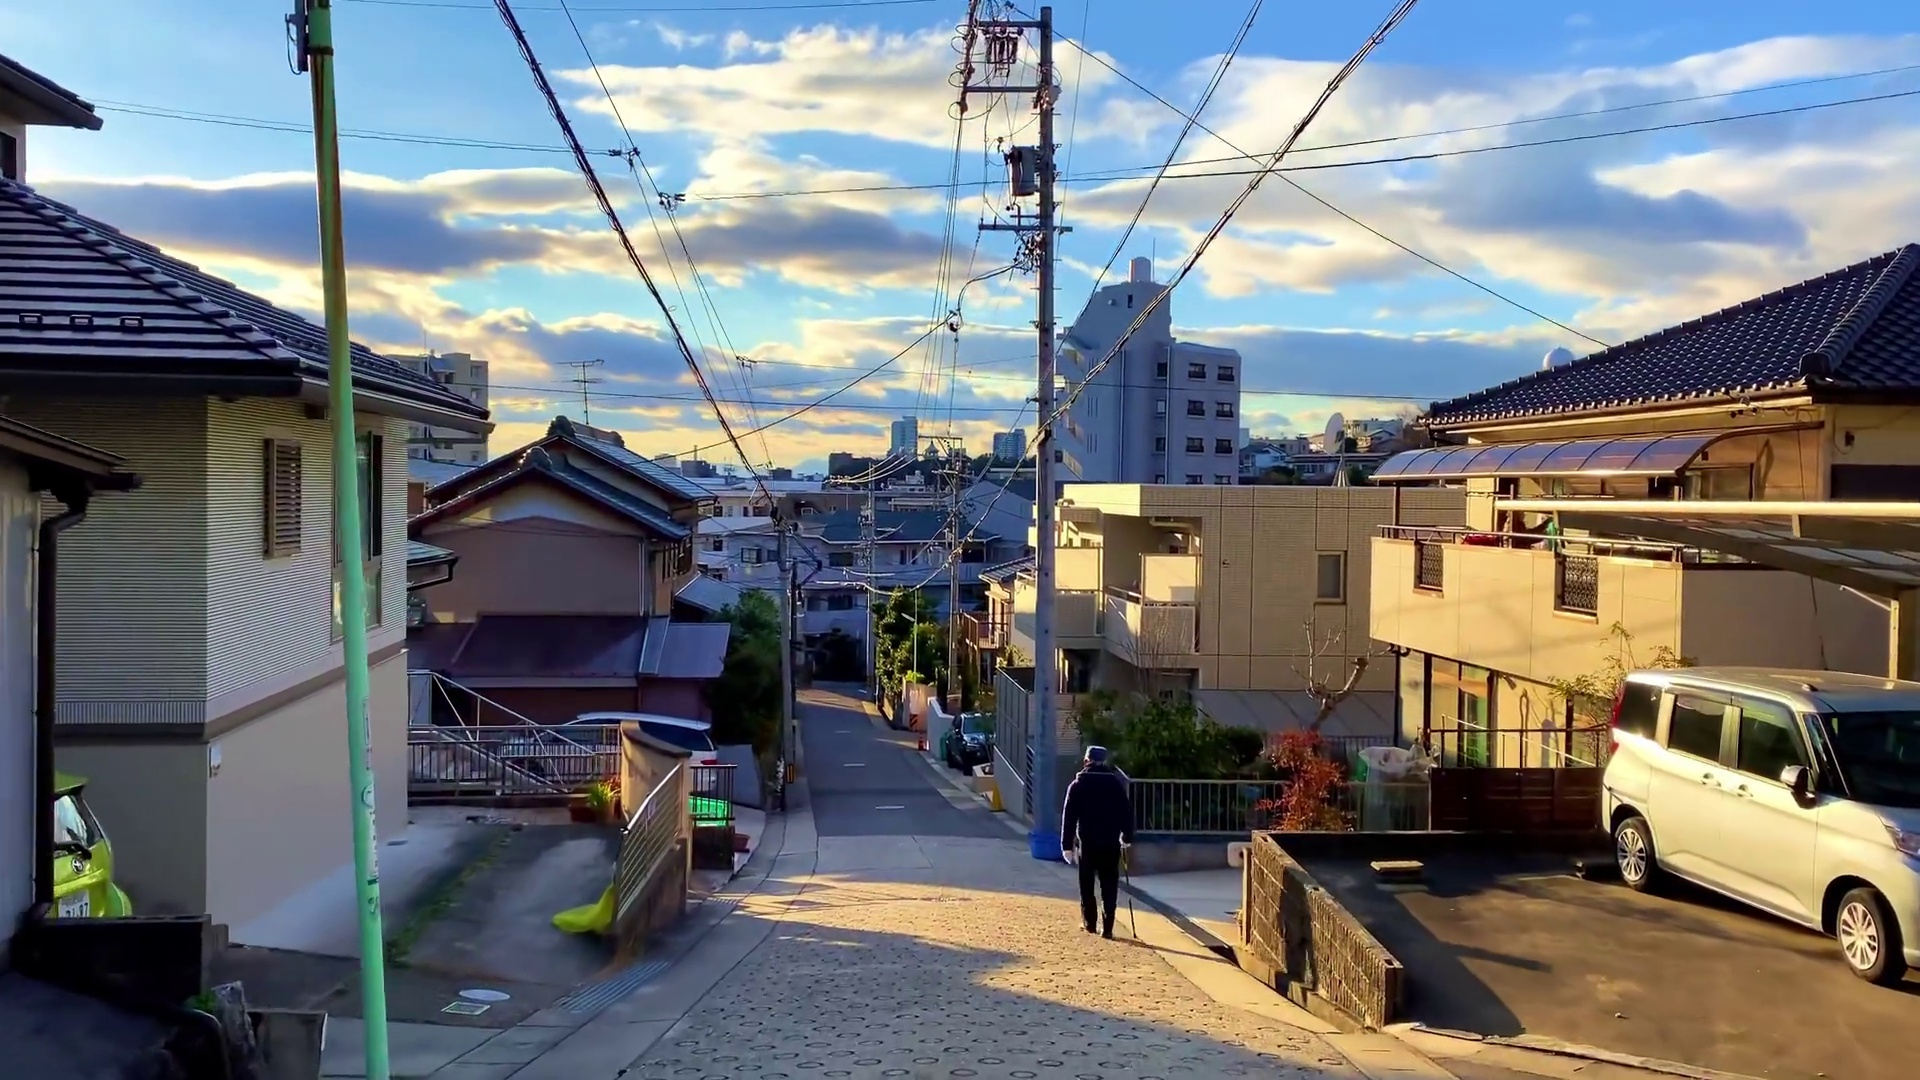person: (1059, 747, 1143, 943)
